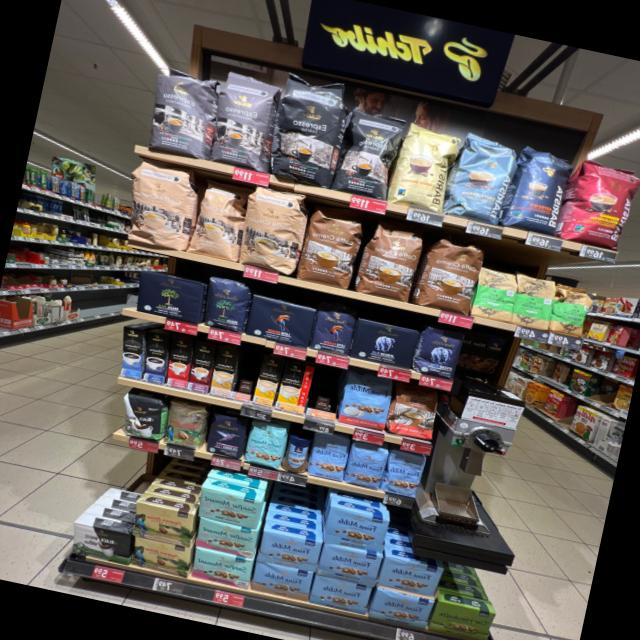AB Bohne: (412, 324, 466, 381)
AB Gemahlen: (348, 316, 421, 371)
Athiopien Bohne: (548, 282, 596, 338)
Athiopien Gemahlen: (470, 264, 521, 324), (510, 272, 557, 331)
BM Gemahlen: (130, 268, 206, 324), (199, 274, 253, 334)
BW Bohne: (115, 390, 167, 442)
BW Gemahlen: (66, 522, 134, 564)
Barista CB: (387, 120, 462, 212)
Barista CC: (444, 134, 518, 225)
Barista Espresso: (505, 145, 575, 236)
Barista Kolumbien: (560, 156, 640, 253)
C Fino Bohne: (204, 411, 248, 459)
CC Mild: (117, 156, 203, 253), (235, 184, 312, 276), (187, 178, 250, 262)
CC Vollmundig: (386, 382, 441, 442)
CC Vollmundig 36 Pads: (353, 218, 426, 302), (414, 232, 487, 316), (296, 204, 366, 289)
Colombia BB Bohne: (161, 401, 209, 451)
Colombia BB Gemahlen: (129, 500, 195, 548), (129, 535, 192, 577)
Espresso Aromatisch: (203, 69, 282, 173), (141, 66, 219, 160)
Espresso Kraftig: (262, 68, 351, 188), (333, 106, 406, 200)
FM 36 Pads: (336, 369, 394, 432)
FM Bohne: (380, 448, 428, 498), (342, 440, 390, 490), (306, 430, 352, 482)
FM Gemahlen: (322, 506, 391, 554), (366, 585, 436, 631), (378, 553, 446, 599), (316, 542, 384, 588), (248, 558, 314, 602), (256, 528, 322, 572), (308, 574, 372, 614)
FM Instant: (280, 433, 312, 475)
Herzhatfe Mundig: (427, 598, 497, 640)
LG Bohne: (308, 303, 358, 357)
LG Gemahlen: (243, 292, 317, 348)
SM Bohne: (242, 417, 288, 470)
SM Gemahlen: (195, 487, 264, 530), (192, 517, 258, 559), (190, 547, 253, 589)
Simo CCMild: (274, 360, 314, 414)
Simo CCMild bigpack: (251, 357, 282, 406), (209, 345, 238, 397)
Simo Es Brazil: (165, 335, 194, 388)
Simo Es Caramel: (187, 340, 215, 393)
Simo Es Kraft: (142, 330, 168, 383)
Simo Es Vanilla: (120, 325, 141, 379)
